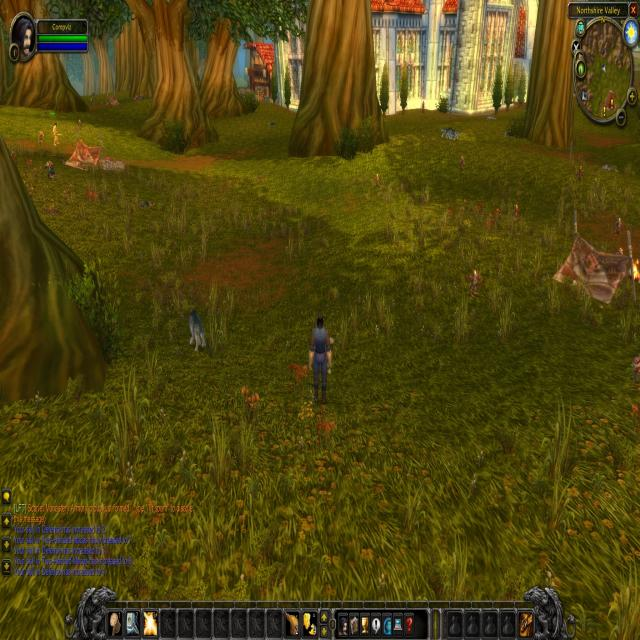wolf: (184, 304, 211, 356), (436, 121, 461, 148), (599, 159, 621, 178), (483, 112, 499, 126), (265, 116, 279, 130)
